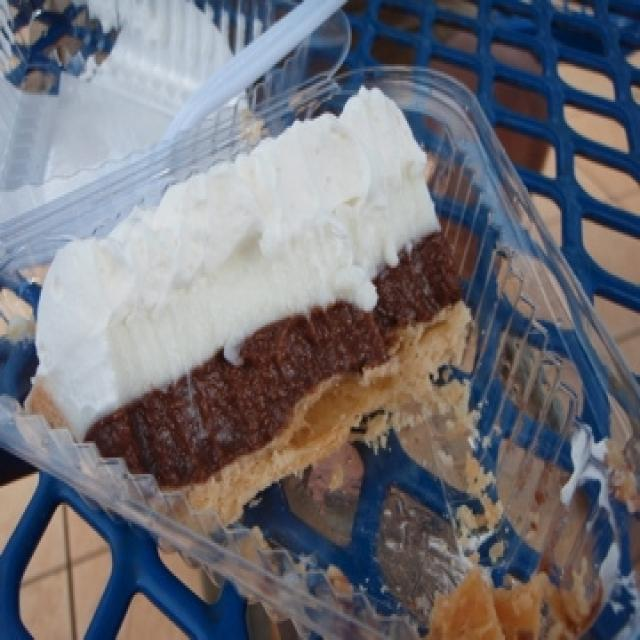蛋糕甜品: (48, 66, 567, 569)
